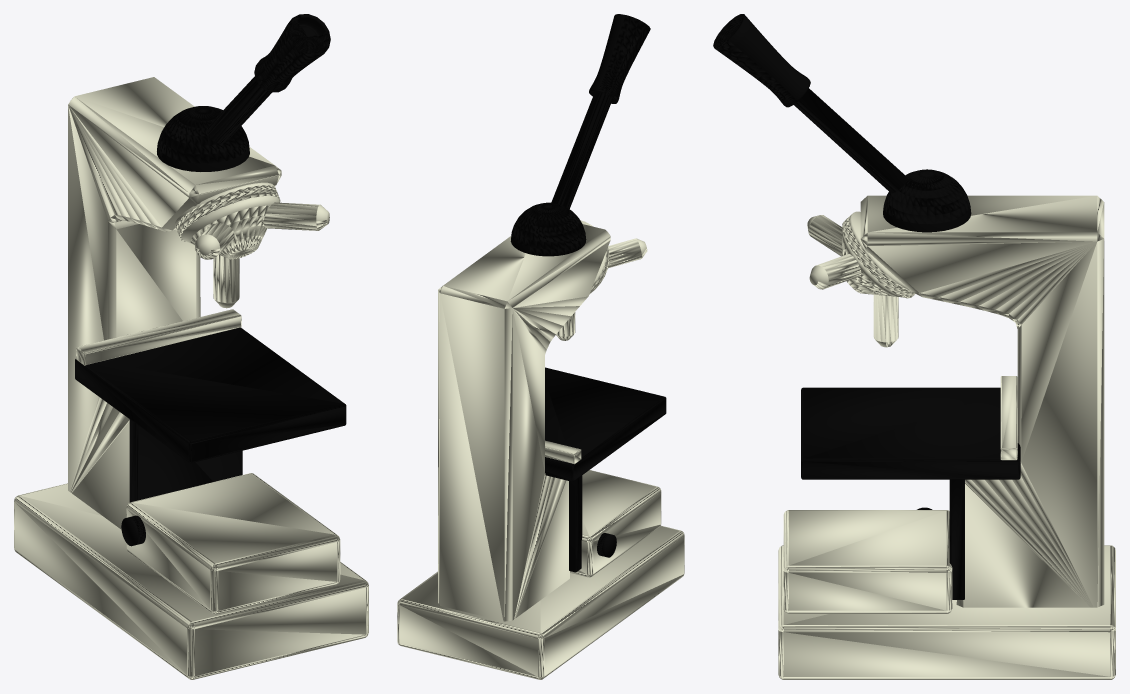
The model's file is Microscope New.dae.
3 renders of one model, left to right at view 1: azimuth 30°, elevation 25°; view 2: azimuth 150°, elevation 25°; view 3: azimuth 270°, elevation 25°, orthographic. The views are drawn at different scales.
Visible parts, largest first — view 1: Rectangle001, ChamferBox001, ChamferBox003, ChamferBox002, Line004, ChamferBox005, Sphere001, ChamferBox004, Cone001, ChamferCyl003, Cylinder003, ChamferCyl001 (+2 smaller); view 2: Rectangle001, ChamferBox001, ChamferBox003, ChamferBox002, Line004, Sphere001, ChamferBox005, ChamferCyl002, ChamferBox004; view 3: Rectangle001, ChamferBox001, ChamferBox003, ChamferBox002, Line004, Sphere001, ChamferBox005, Cylinder003, ChamferBox004, ChamferCyl001, ChamferCyl003, ChamferCyl002 (+1 smaller).
Boxes of the visible parts, <box> form: Rectangle001: <box>68,77,281,529</box>; ChamferBox001: <box>14,483,368,679</box>; ChamferBox003: <box>75,327,346,463</box>; ChamferBox002: <box>126,473,340,614</box>; Line004: <box>207,14,330,143</box>; ChamferBox005: <box>129,419,242,502</box>; Sphere001: <box>157,106,249,171</box>; ChamferBox004: <box>76,309,241,365</box>; Cone001: <box>181,195,279,259</box>; ChamferCyl003: <box>263,202,329,230</box>; Cylinder003: <box>175,182,280,241</box>; ChamferCyl001: <box>213,255,239,308</box>; Rectangle001: <box>438,224,610,621</box>; ChamferBox001: <box>397,525,684,679</box>; ChamferBox003: <box>545,367,666,481</box>; ChamferBox002: <box>570,470,661,577</box>; Line004: <box>551,14,650,208</box>; Sphere001: <box>510,202,586,256</box>; ChamferBox005: <box>569,475,582,572</box>; ChamferCyl002: <box>608,238,647,268</box>; ChamferBox004: <box>545,440,581,464</box>; Rectangle001: <box>860,195,1104,607</box>; ChamferBox001: <box>778,545,1115,679</box>; ChamferBox003: <box>801,387,1020,479</box>; ChamferBox002: <box>783,510,952,613</box>; Line004: <box>713,14,907,193</box>; Sphere001: <box>883,169,971,232</box>; ChamferBox005: <box>949,479,964,599</box>; Cylinder003: <box>842,211,915,298</box>; ChamferBox004: <box>1000,376,1017,460</box>; ChamferCyl001: <box>873,294,898,347</box>; ChamferCyl003: <box>809,254,861,289</box>; ChamferCyl002: <box>807,215,842,256</box>.
Size of the model in its own units: 0.2492 by 0.5067 by 0.8663.
